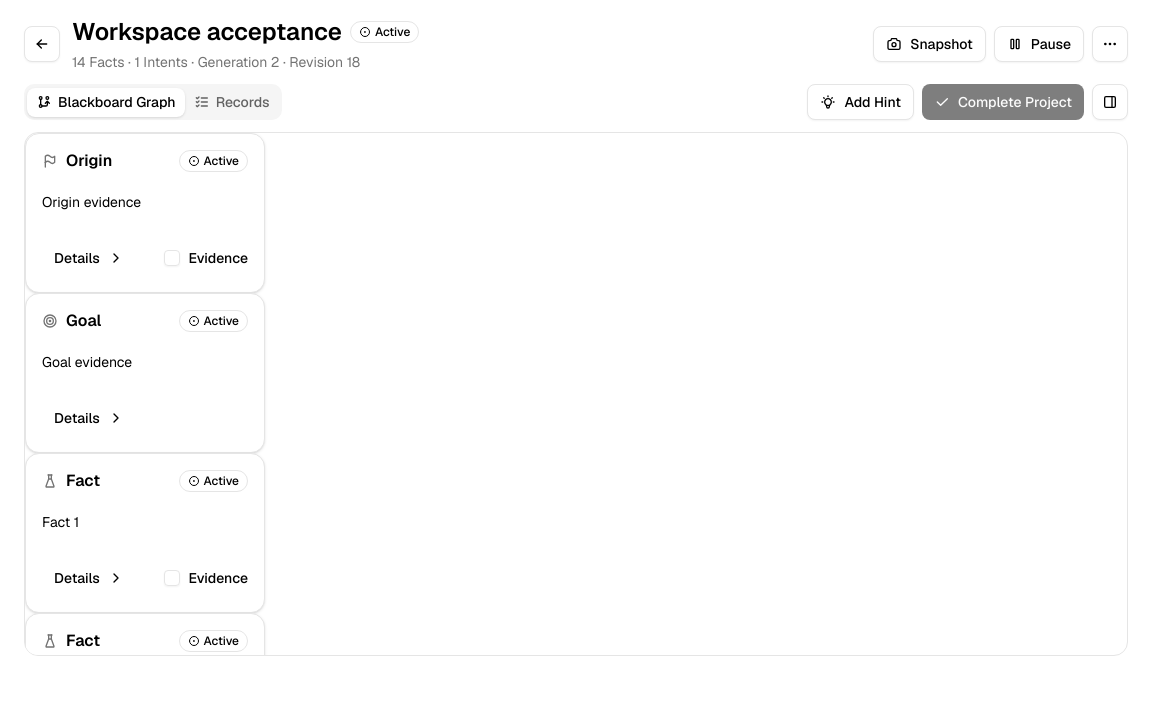
explicitly retries exhausted work and reuses the request after a lost acknowledgement
Expected: the text named "Data Freshness: Live" is shown, [71,29,112,35]
Click the button named "Project actions".
click(1110, 44)  # box [1092,26,1128,62]
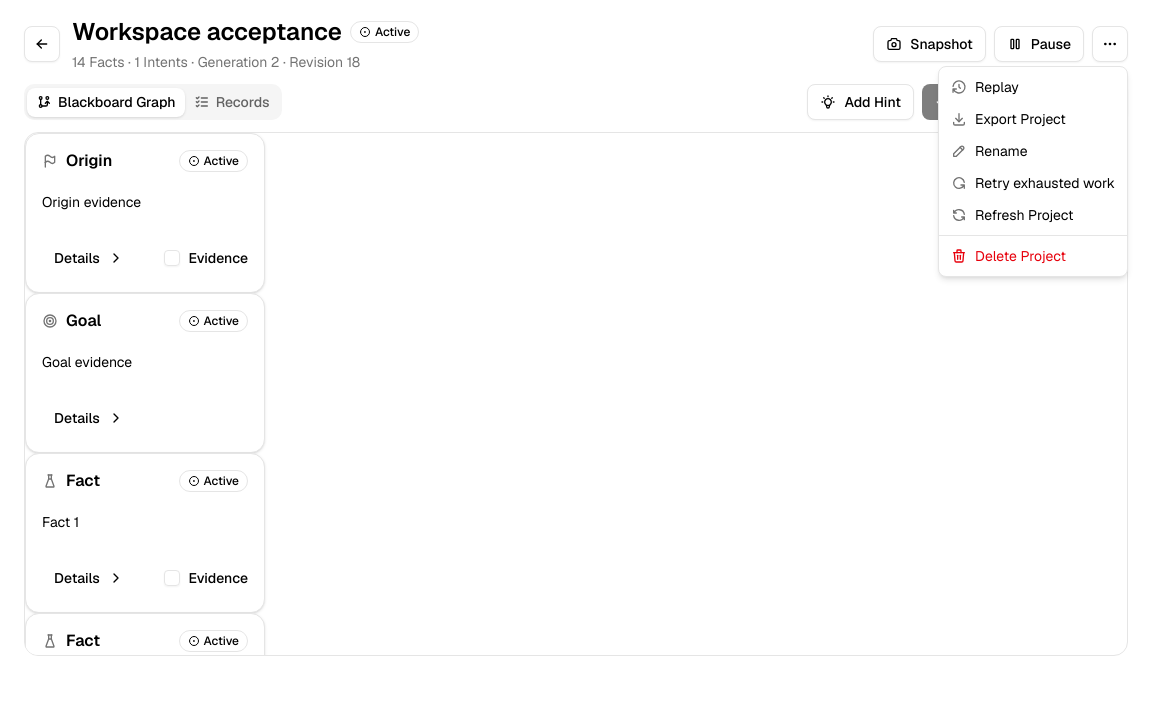
Click the menu item "Retry exhausted work".
click(1033, 183)  # box [951,174,1115,192]
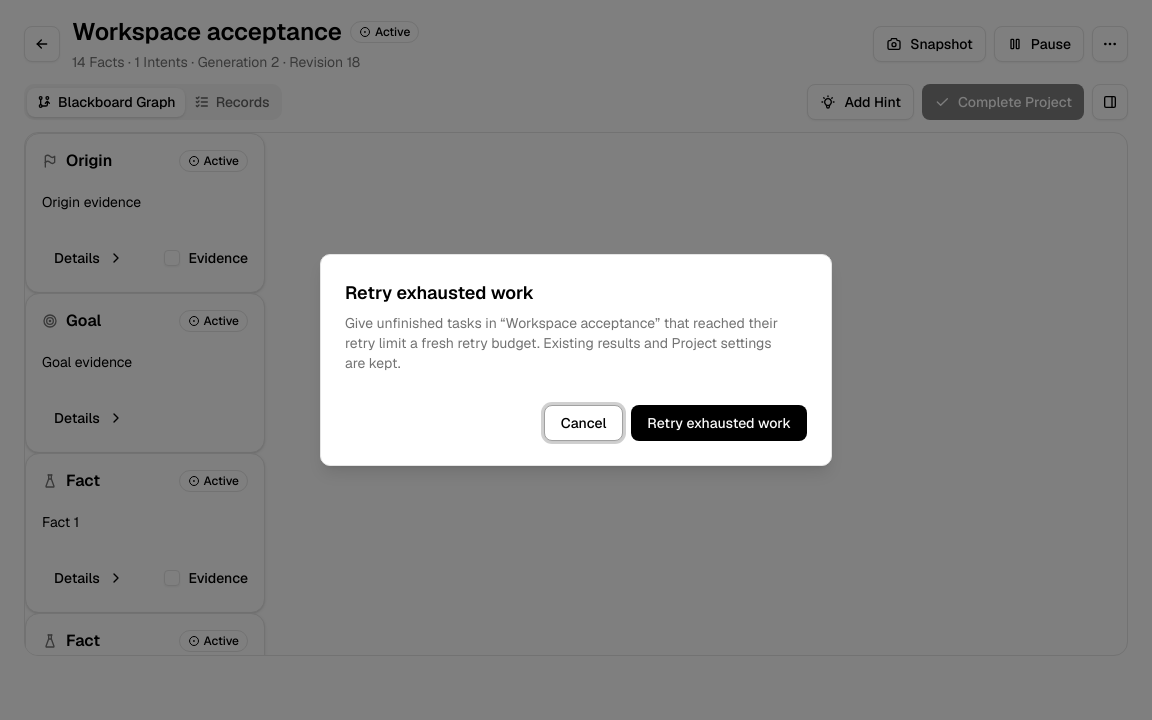
Click the button "Retry exhausted work".
click(719, 423)  # box [631,405,807,441]
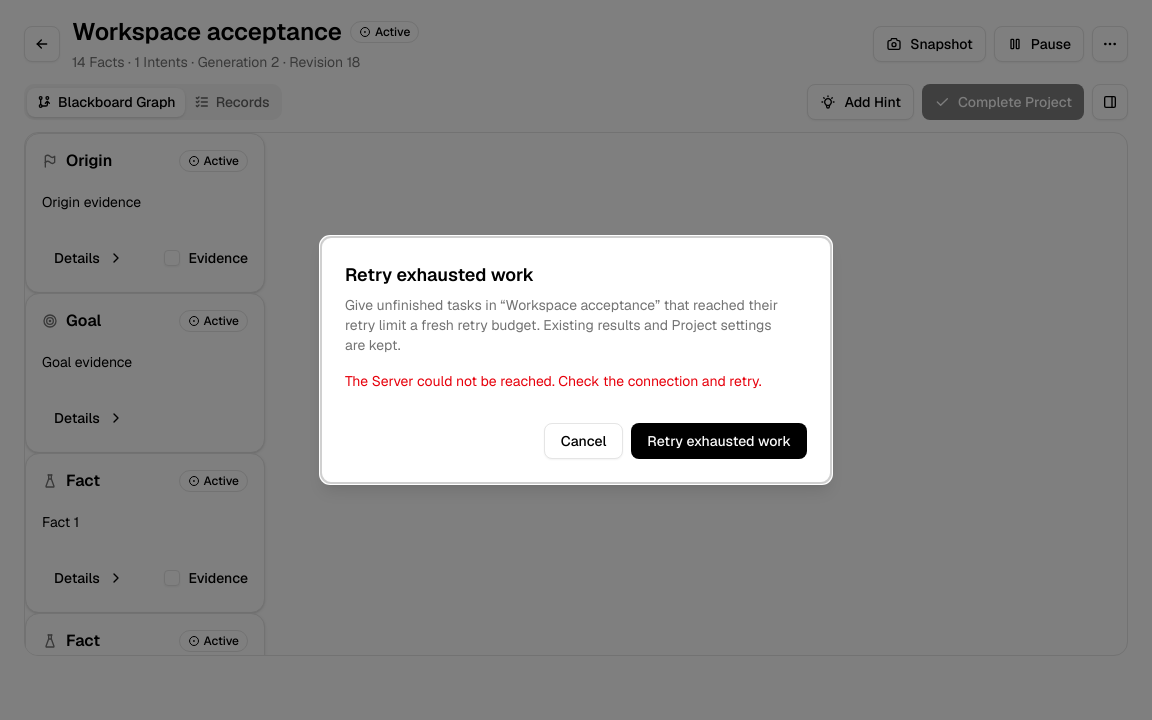
Now the message "The Server could not be reached. Check the connection and retry." is shown, box [345,371,807,391]
Click the button "Retry exhausted work".
click(719, 441)  # box [631,423,807,459]
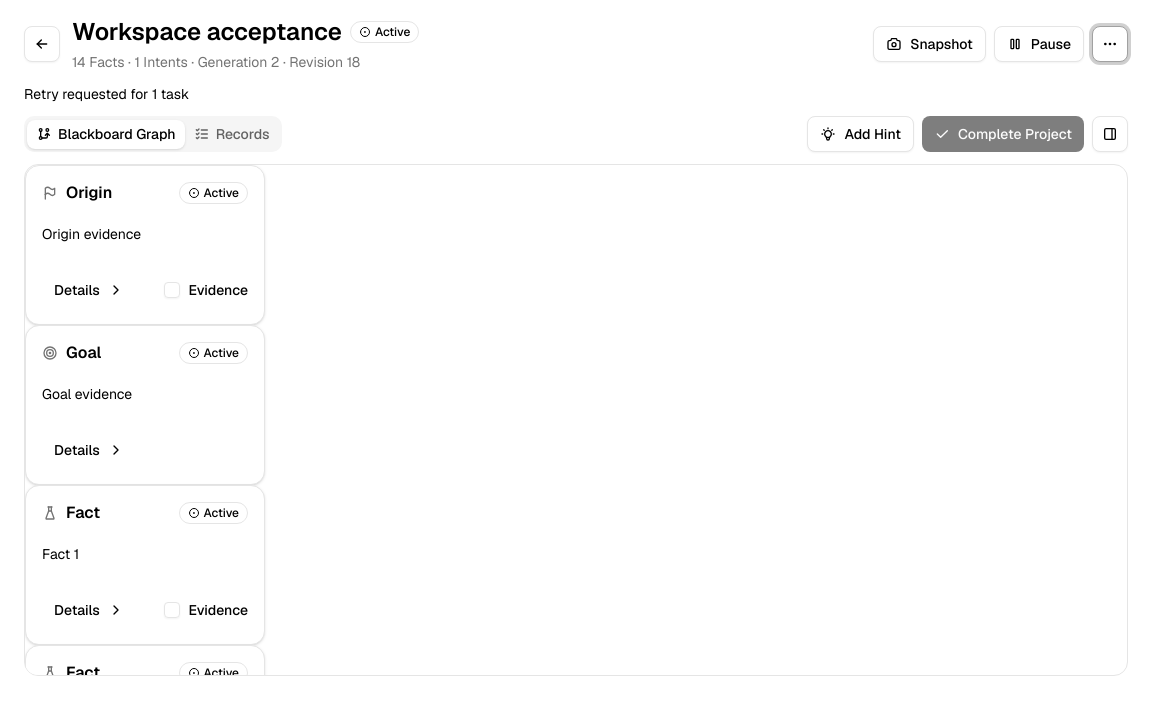
Now the heading "Retry exhausted work" is gone
Now the text "Retry requested for 1 task" is shown, box [24,85,189,103]
